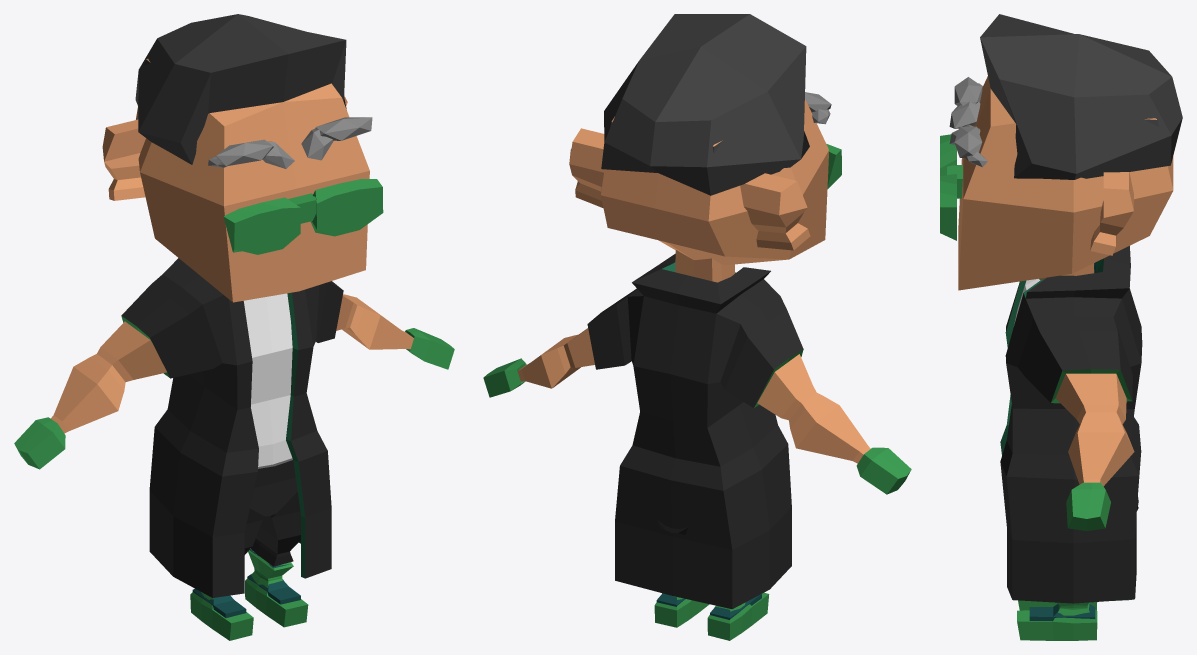
File: GameJam_NEO_001_010222.fbx
3 renders of one model, left to right at view 1: azimuth 30°, elevation 25°; view 2: azimuth 150°, elevation 25°; view 3: azimuth 270°, elevation 25°, orthographic. The views are drawn at different scales.
Parts seen in each view (by area): view 1: Head.005, Lab Coat.002, Body.005, Body.006, boot, Body.009, shoes; view 2: Lab Coat.002, Head.005, Body.005, Body.009, boot, shoes; view 3: Head.005, Lab Coat.002, Body.005, boot, Body.009, shoes.
Part boxes in pixels (left/top/right/bottom): Head.005: left=102, top=14, right=383, bottom=302; Lab Coat.002: left=121, top=258, right=343, bottom=597; Body.005: left=51, top=293, right=413, bottom=466; Body.006: left=244, top=458, right=300, bottom=566; boot: left=190, top=550, right=308, bottom=640; Body.009: left=14, top=328, right=454, bottom=469; shoes: left=192, top=549, right=300, bottom=617; Lab Coat.002: left=587, top=253, right=803, bottom=609; Head.005: left=569, top=14, right=841, bottom=265; Body.005: left=517, top=250, right=870, bottom=463; Body.009: left=483, top=358, right=911, bottom=494; boot: left=654, top=592, right=769, bottom=640; shoes: left=656, top=593, right=761, bottom=619; Head.005: left=940, top=14, right=1182, bottom=290; Lab Coat.002: left=1000, top=246, right=1142, bottom=603; Body.005: left=1014, top=263, right=1134, bottom=486; boot: left=1017, top=600, right=1097, bottom=640; Body.009: left=1066, top=482, right=1110, bottom=530; shoes: left=1029, top=604, right=1095, bottom=620.
Size of the model in its own units: 162 by 214 by 80.04.
